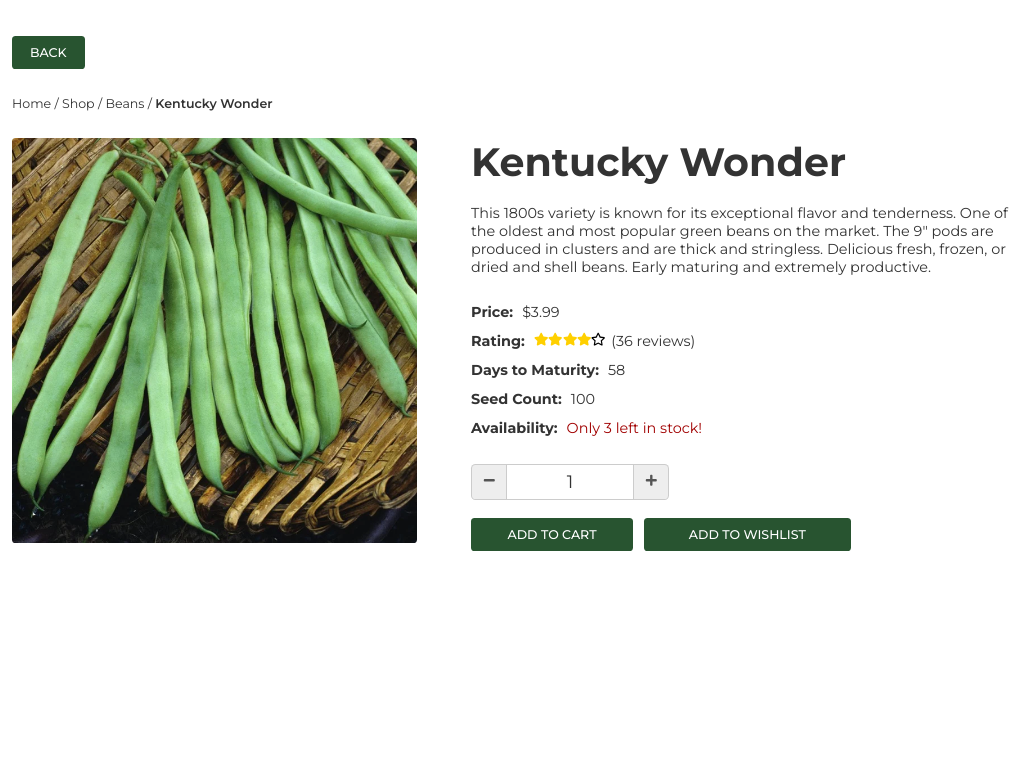
Scenario: <SingleProduct /> › should show the correct wishlist button text
Click the button "Add to Wishlist": (747, 534) [644,518,851,551]
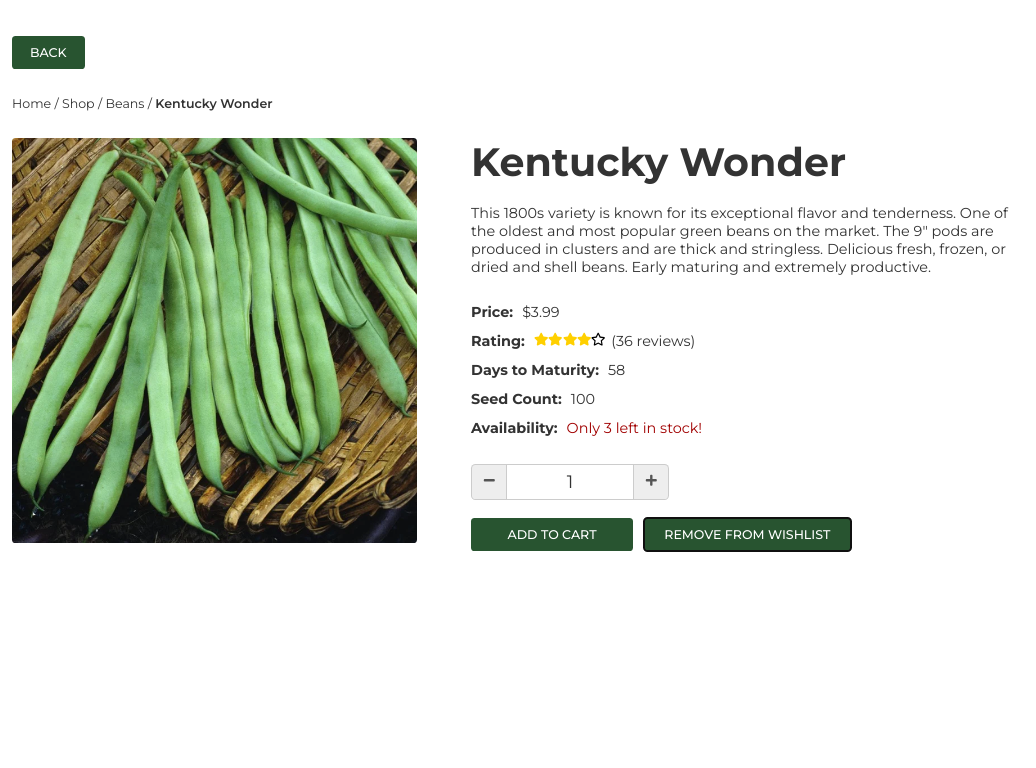
Expected: the button "Remove from Wishlist" is shown, [644,518,851,551]
